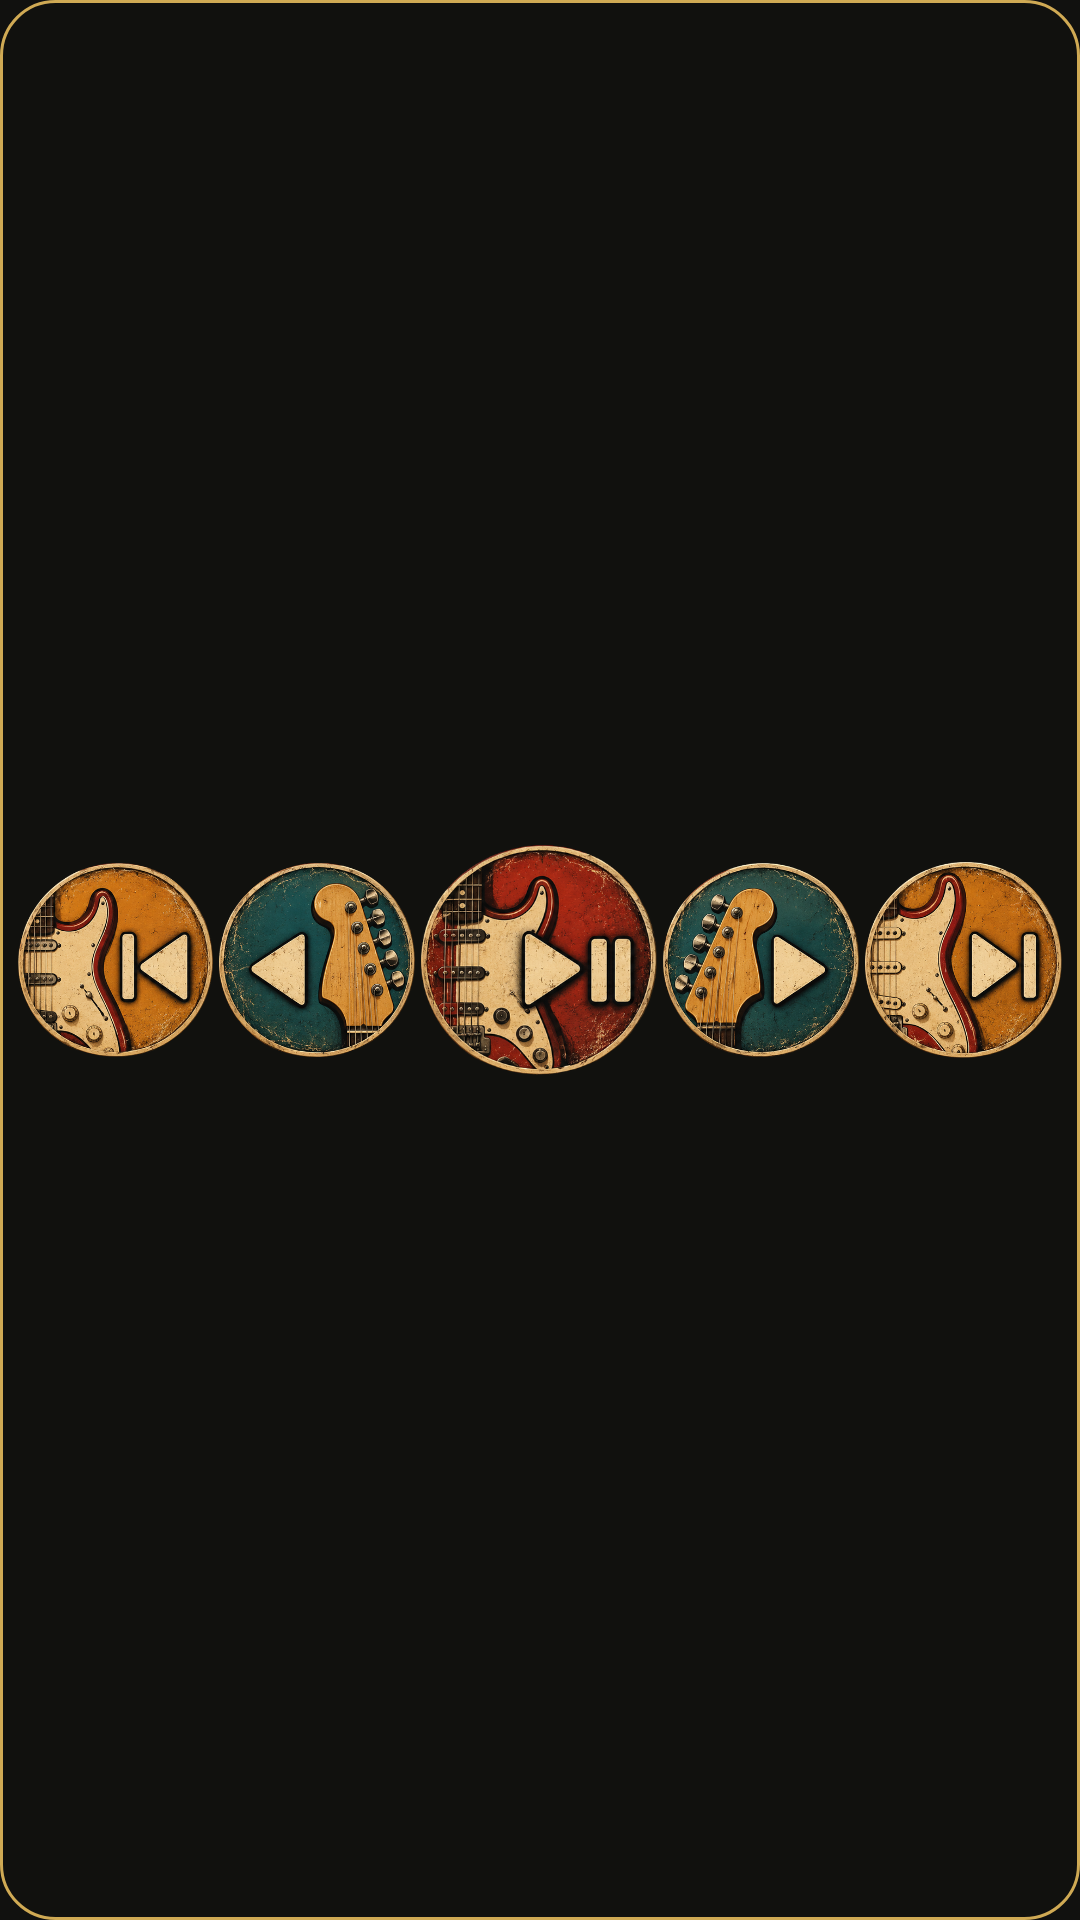

Where icons sit on this 1080*1920 app screen, as (x1,y1,x2,y2):
Lecture et pause: (421,845,657,1075)
